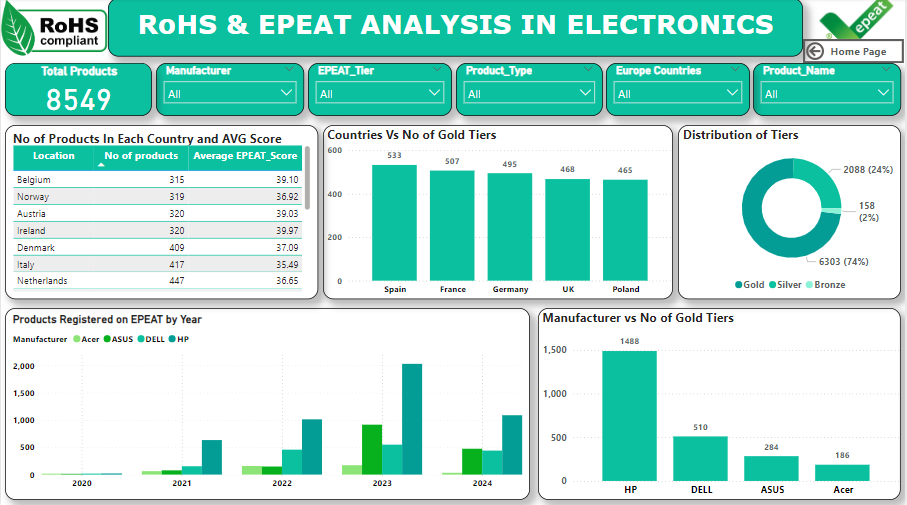

The page's visual inventory and layout, read from the dashboard file:
{"tool":"powerbi","page":{"name":"EPEAT ANALYSIS","canvas":[1280,720],"ordinal":1},"visuals":[{"type":"textbox","box":[151.7,0,985,83.3],"z":0},{"type":"image","box":[1123.3,0,156.7,58.3],"z":1000},{"type":"image","box":[0,0,165.2,84.1],"z":2000},{"type":"slicer","fields":{"Values":["Europe.Manufacturer"]},"box":[219.7,92.5,209.8,75.1],"z":3000},{"type":"slicer","fields":{"Values":["Europe.Product_Name"]},"box":[1065.8,92.5,209.8,75.1],"z":4000},{"type":"slicer","fields":{"Values":["Europe.EPEAT_Tier"]},"box":[435.1,92.5,204.1,75.1],"z":5000},{"type":"slicer","fields":{"Values":["Europe.Product_Type"]},"box":[644.9,92.5,208.3,75.1],"z":6000},{"type":"slicer","fields":{"Values":["Europe.Registered_In"]},"box":[857.5,92.5,204.1,75.1],"z":7000},{"type":"clusteredColumnChart","title":"Products Registered on EPEAT by Year","fields":{"Category":["Europe.Registered_On.Variation.Date Hierarchy.Year","Europe.Registered_On.Variation.Date Hierarchy.Quarter","Europe.Registered_On.Variation.Date Hierarchy.Month","Europe.Registered_On.Variation.Date Hierarchy.Day"],"Y":["CountNonNull(Europe.Manufacturer)"],"Series":["Europe.Manufacturer"]},"box":[5.7,439.4,744.1,272.1],"z":8000},{"type":"card","title":"Total Products","fields":{"Values":["CountNonNull(Europe.Product_Name)"]},"box":[5.7,92.5,208.3,75.1],"z":9000},{"type":"columnChart","title":"Countries Vs No of Gold Tiers","fields":{"Category":["Europe.Registered_In"],"Y":["CountNonNull(Europe.EPEAT_Tier)"]},"box":[456.4,180,496.1,246.6],"z":10000},{"type":"columnChart","title":"Manufacturer vs No of Gold Tiers","fields":{"Y":["CountNonNull(Europe.EPEAT_Tier)"],"Category":["Europe.Manufacturer"]},"box":[761.1,439.4,514.5,272.1],"z":11000},{"type":"donutChart","title":"Distribution of Tiers","fields":{"Category":["Europe.EPEAT_Tier"],"Y":["CountNonNull(Europe.EPEAT_Tier)"]},"box":[959.5,180,316.1,246.6],"z":12000},{"type":"tableEx","title":"No of Products In Each Country and AVG Score","fields":{"Values":["Europe.Registered_In","Europe.Product_Name","Avg(Europe.EPEAT_Score_out_of_49)"]},"box":[5.7,180,443.6,246.6],"z":13000},{"type":"actionButton","box":[1137,58.6,143,34.3],"z":14000}]}

Visuals, with their boxes in screenshot pixels (x1, y1, x2, y2), scaled from the page's 1280x720 canvas onto the 907x505 screenshot:
textbox: {"left": 107, "top": 0, "right": 805, "bottom": 58}
image: {"left": 796, "top": 0, "right": 906, "bottom": 41}
image: {"left": 0, "top": 0, "right": 117, "bottom": 59}
slicer - Europe.Manufacturer: {"left": 156, "top": 65, "right": 304, "bottom": 118}
slicer - Europe.Product_Name: {"left": 755, "top": 65, "right": 904, "bottom": 118}
slicer - Europe.EPEAT_Tier: {"left": 308, "top": 65, "right": 453, "bottom": 118}
slicer - Europe.Product_Type: {"left": 457, "top": 65, "right": 605, "bottom": 118}
slicer - Europe.Registered_In: {"left": 608, "top": 65, "right": 752, "bottom": 118}
"Products Registered on EPEAT by Year" clusteredColumnChart: {"left": 4, "top": 308, "right": 531, "bottom": 499}
"Total Products" card: {"left": 4, "top": 65, "right": 152, "bottom": 118}
"Countries Vs No of Gold Tiers" columnChart: {"left": 323, "top": 126, "right": 675, "bottom": 299}
"Manufacturer vs No of Gold Tiers" columnChart: {"left": 539, "top": 308, "right": 904, "bottom": 499}
"Distribution of Tiers" donutChart: {"left": 680, "top": 126, "right": 904, "bottom": 299}
"No of Products In Each Country and AVG Score" tableEx: {"left": 4, "top": 126, "right": 318, "bottom": 299}
actionButton: {"left": 806, "top": 41, "right": 906, "bottom": 65}
